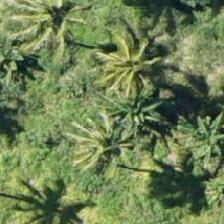coconut_tree: (59, 94, 149, 184), (89, 22, 179, 112), (0, 0, 76, 57)
